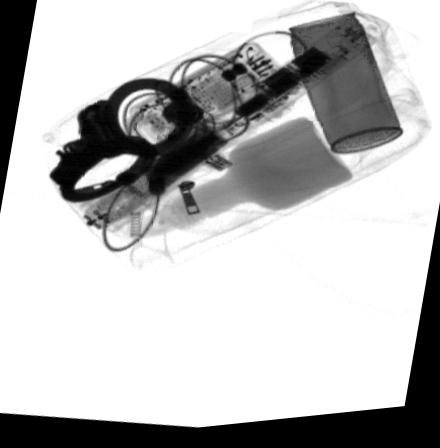Baton: (73, 23, 380, 236)
HandCuffs: (44, 78, 203, 204)
